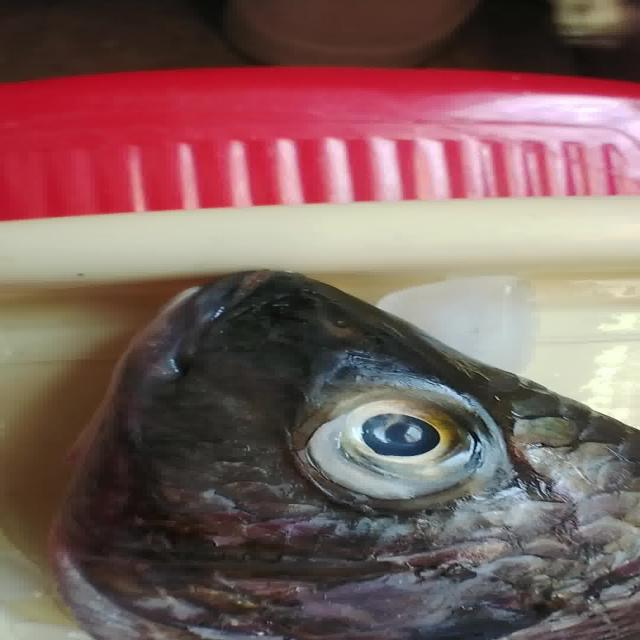Fresh: (283, 371, 513, 513)
